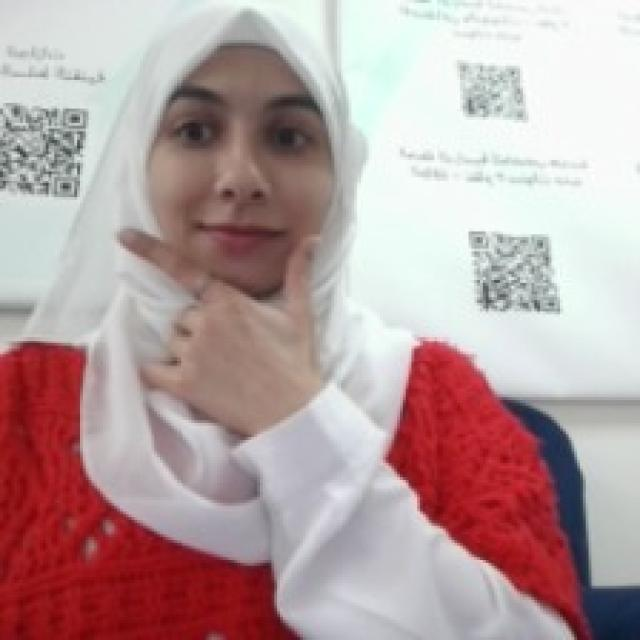smile: (109, 208, 328, 388)
